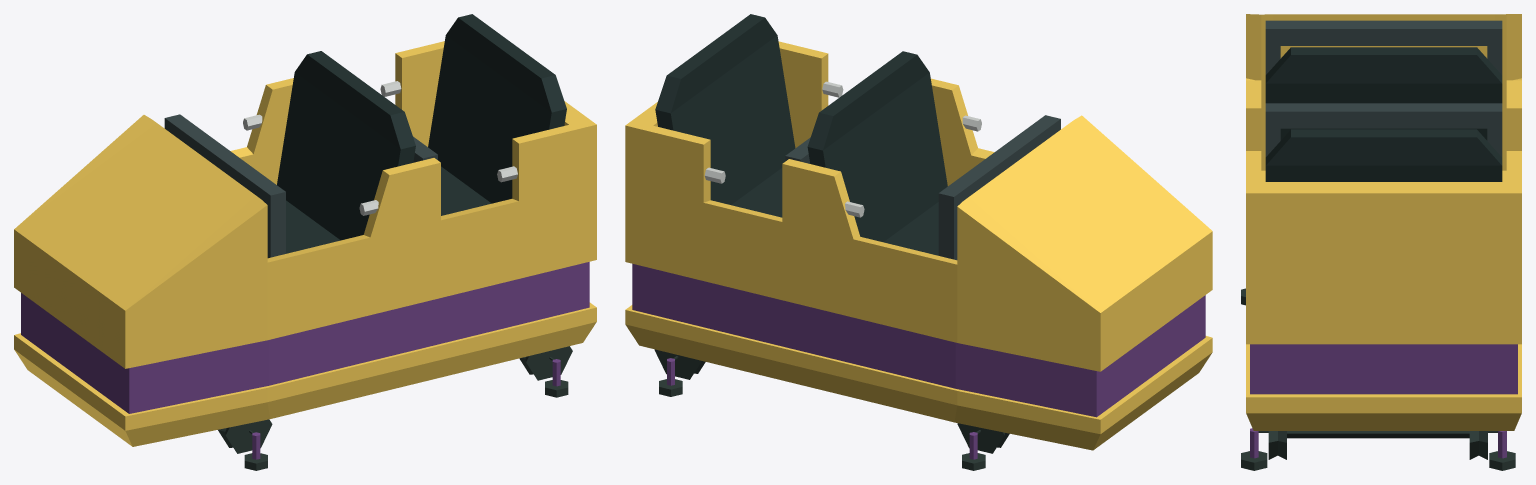
File: RollerCoaster_Wagon_A.fbx
The picture shows the model from 3 angles, left to right: view 1: azimuth 30°, elevation 25°; view 2: azimuth 150°, elevation 25°; view 3: azimuth 270°, elevation 25°; orthographic projection. The views are drawn at different scales.
Visible parts, largest first — view 1: RollerCoaster_Wagon_A, RC_Wagon_Belt.001, RC_Wagon_A_Wheels, RC_Wagon_A_Wheels.001; view 2: RollerCoaster_Wagon_A, RC_Wagon_Belt.001, RC_Wagon_A_Wheels, RC_Wagon_A_Wheels.001; view 3: RollerCoaster_Wagon_A, RC_Wagon_Belt.001, RC_Wagon_Belt, RC_Wagon_A_Wheels.001, RC_Wagon_A_Wheels_L.001, RC_Wagon_A_Wheels_L.002.
Part boxes in pixels (x1,y1,x2,y2): RollerCoaster_Wagon_A: (14,14,596,459); RC_Wagon_Belt.001: (164,114,285,258); RC_Wagon_A_Wheels: (218,419,272,453); RC_Wagon_A_Wheels.001: (519,346,572,380); RollerCoaster_Wagon_A: (625,14,1212,459); RC_Wagon_Belt.001: (938,115,1060,260); RC_Wagon_A_Wheels: (957,423,1009,453); RC_Wagon_A_Wheels.001: (654,349,705,379); RollerCoaster_Wagon_A: (1246,14,1521,458); RC_Wagon_Belt.001: (1265,20,1502,74); RC_Wagon_Belt: (1265,103,1502,156); RC_Wagon_A_Wheels.001: (1268,431,1487,459); RC_Wagon_A_Wheels_L.001: (1241,451,1267,470); RC_Wagon_A_Wheels_L.002: (1489,451,1515,470).
Bounding box in the file's own units: 119 × 73.75 × 55.87.
